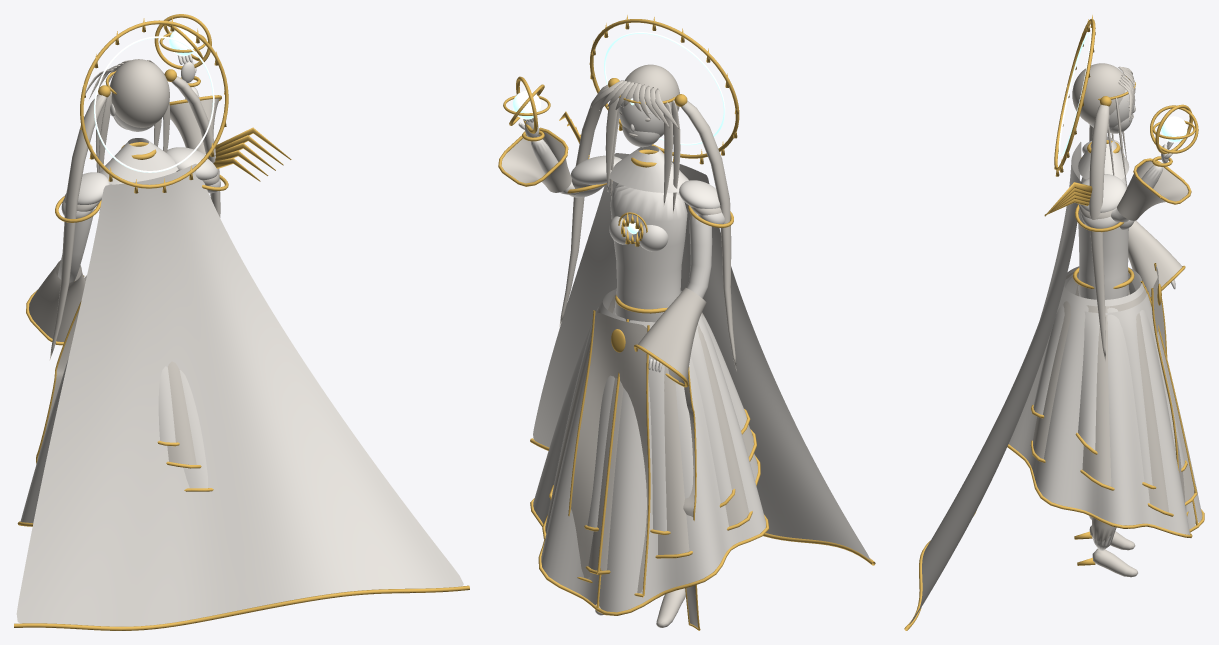
File: aurelia.glb
The picture shows the model from 3 angles, left to right: view 1: azimuth 30°, elevation 25°; view 2: azimuth 150°, elevation 25°; view 3: azimuth 270°, elevation 25°; orthographic projection. The views are drawn at different scales.
Visible parts, largest first — view 1: marble, marble2, gold, glow; view 2: marble, marble2, gold, glow; view 3: marble, marble2, gold, glow.
Part boxes in pixels (x1=…): marble: x1=16, y1=54, x2=463, y2=626; marble2: x1=29, y1=59, x2=220, y2=464; gold: x1=14, y1=14, x2=469, y2=630; glow: x1=94, y1=28, x2=214, y2=172; marble: x1=518, y1=95, x2=870, y2=612; marble2: x1=501, y1=64, x2=753, y2=627; gold: x1=498, y1=15, x2=875, y2=630; glow: x1=512, y1=32, x2=725, y2=234; marble: x1=909, y1=90, x2=1202, y2=624; marble2: x1=1033, y1=63, x2=1194, y2=577; gold: x1=904, y1=15, x2=1204, y2=630; glow: x1=1058, y1=33, x2=1187, y2=156.
Bounding box in the file's own units: 1.45 × 2.03 × 1.02.
